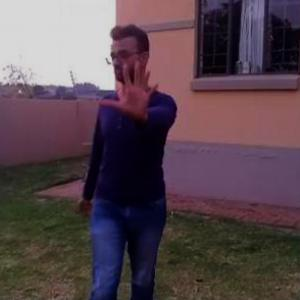follow_hand: (97, 55, 161, 124)
